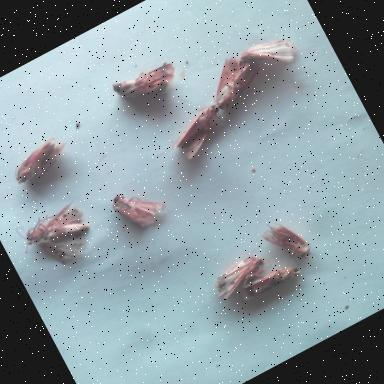abw: (0, 127, 80, 198), (103, 49, 184, 115), (160, 99, 236, 165), (200, 44, 272, 112), (104, 172, 174, 238), (204, 246, 277, 304), (234, 252, 308, 308), (256, 208, 318, 274), (237, 26, 302, 82)
